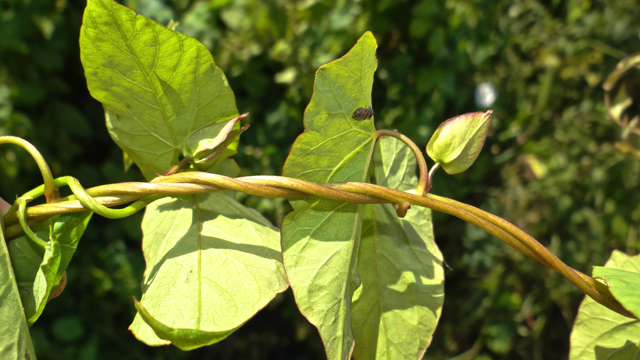haagwinde: (72, 1, 500, 360)
